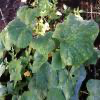Squash Powdery mildew leaf: (51, 13, 99, 65), (8, 8, 36, 48), (55, 64, 86, 100), (35, 58, 56, 100), (29, 28, 56, 55), (29, 47, 49, 74)
